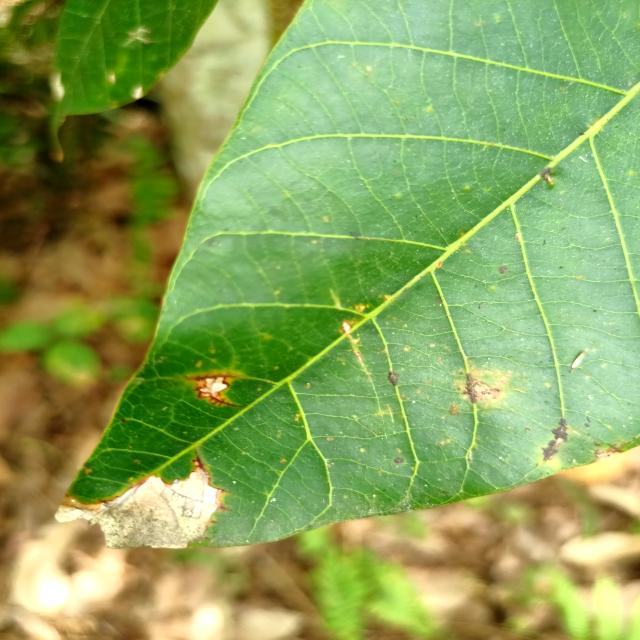Colletotrichum: (394, 457, 404, 464)
Corynespora: (190, 372, 244, 408), (192, 450, 205, 472)
Leaf-Blight: (54, 467, 222, 550)
